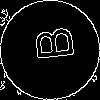B: (25, 25, 75, 63)
